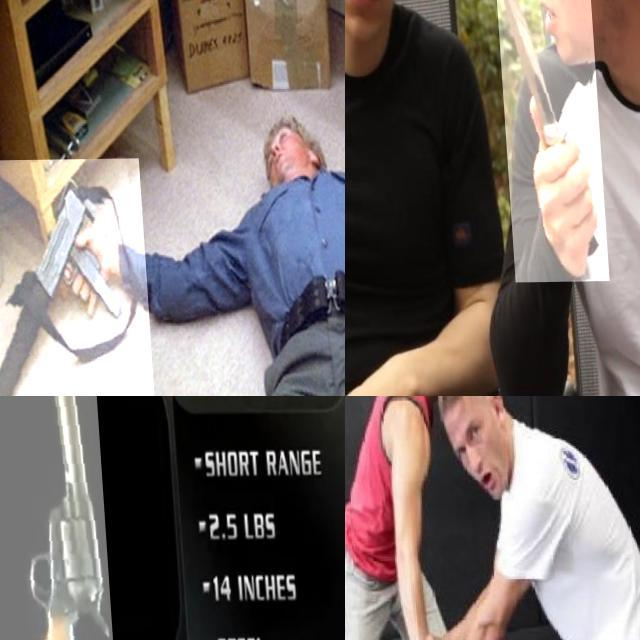-: (490, 0, 602, 283)
gun-knife-thesis - v11 Yolov5 augmented: (0, 159, 151, 396), (0, 396, 110, 640)
